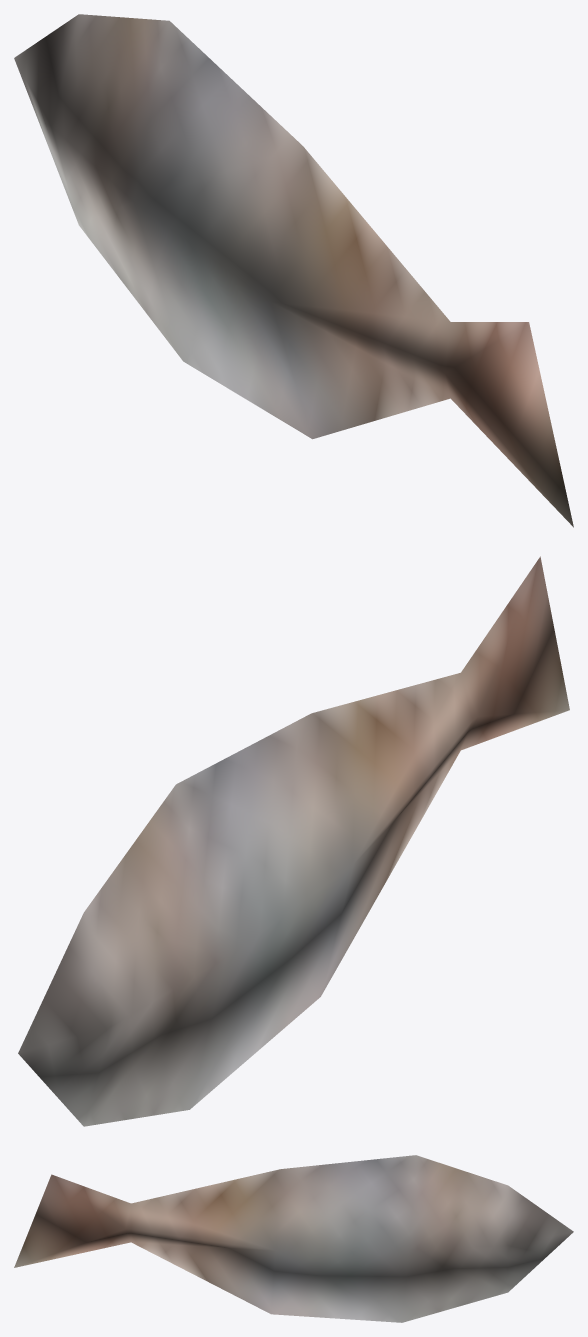
Rendered from animal.fish_6.glb.
The picture shows the model from 3 angles, top to bottom: view 1: azimuth 30°, elevation 25°; view 2: azimuth 150°, elevation 25°; view 3: azimuth 270°, elevation 25°; orthographic projection. The views are drawn at different scales.
Visible parts, largest first — view 1: Cube014; view 2: Cube014; view 3: Cube014.
Part boxes in pixels (<box>): Cube014: <box>14,14,573,527</box>; Cube014: <box>18,556,569,1126</box>; Cube014: <box>14,1155,573,1322</box>.
Size of the model in its own units: 0.0358 by 0.1322 by 0.4.
1 material, 1 textured.
